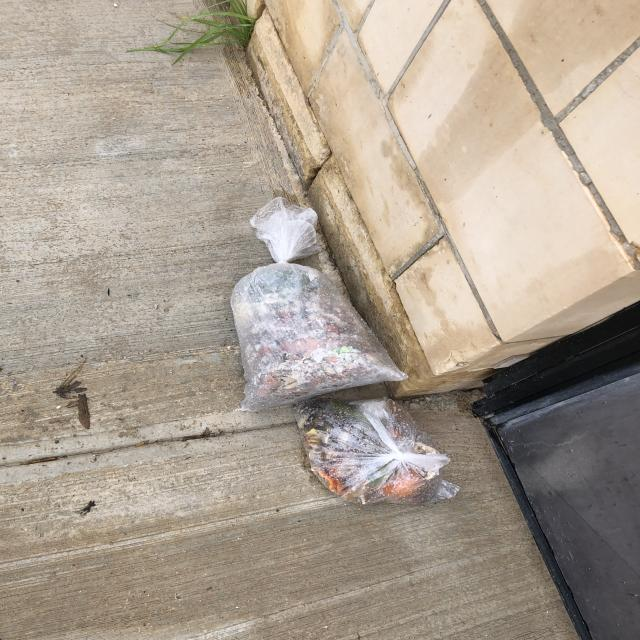Other: (229, 196, 421, 409), (290, 398, 467, 516)
